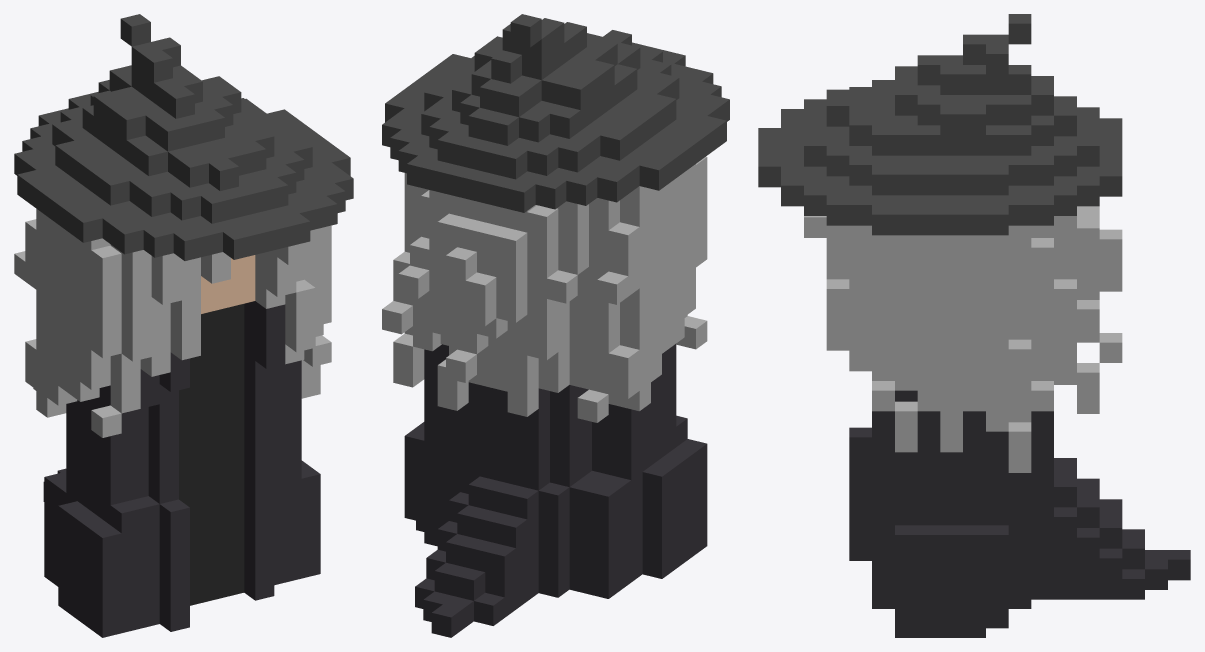
File: Bruxa 01 - Andando-03.obj
The picture shows the model from 3 angles, left to right: view 1: azimuth 30°, elevation 25°; view 2: azimuth 150°, elevation 25°; view 3: azimuth 270°, elevation 25°; orthographic projection. The views are drawn at different scales.
Size of the model in its own units: 14 by 27 by 19.
Materials: 1 (1 with a texture image).
